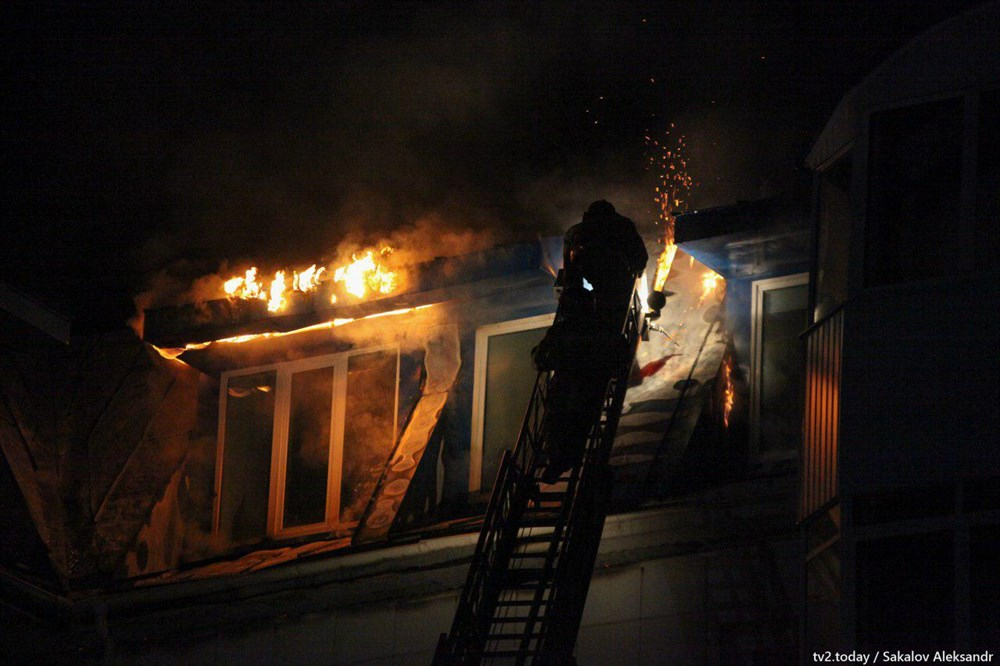fire: (133, 220, 555, 419)
